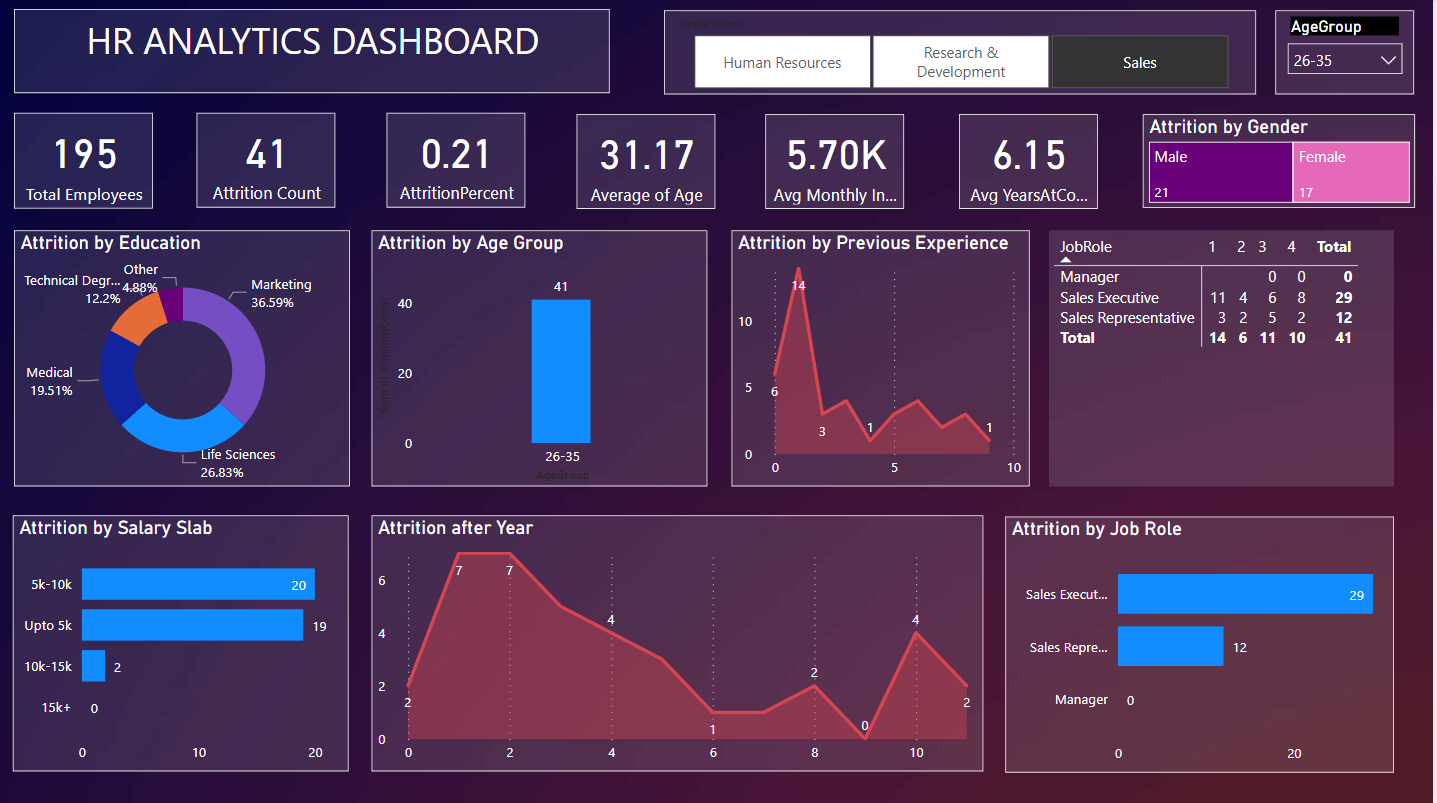

The page's visual inventory and layout, read from the dashboard file:
{"tool":"powerbi","page":{"name":"Page 1","canvas":[1280,720],"ordinal":0},"visuals":[{"type":"card","fields":{"Values":["CountNonNull(HR_Analytics.EmpID)"]},"box":[13.9,101.1,124.3,86],"z":0},{"type":"card","fields":{"Values":["Sum(HR_Analytics.AttritionCount)"]},"box":[176.6,101.1,124.3,84.8],"z":1000},{"type":"card","fields":{"Values":["HR_Analytics.AttritionPercent"]},"box":[346.3,101.1,124.3,84.8],"z":2000},{"type":"card","fields":{"Values":["Avg(HR_Analytics.Age)"]},"box":[515.7,102.7,123.9,84.8],"z":3000},{"type":"card","fields":{"Values":["Avg(HR_Analytics.MonthlyIncome)"]},"box":[684.3,102.7,123.9,84.8],"z":4000},{"type":"card","fields":{"Values":["Avg(HR_Analytics.YearsAtCompany)"]},"box":[857.5,102.3,124.3,84.8],"z":5000},{"type":"donutChart","title":"Attrition by Education","fields":{"Category":["HR_Analytics.EducationField"],"Y":["Sum(HR_Analytics.AttritionCount)"]},"box":[13.4,206.7,300,228.9],"z":6000},{"type":"columnChart","title":"Attrition by Age Group","fields":{"Y":["Sum(HR_Analytics.AttritionCount)"],"Category":["HR_Analytics.AgeGroup"]},"box":[332.3,206.8,299.8,228.9],"z":7000},{"type":"pivotTable","fields":{"Rows":["HR_Analytics.JobRole"],"Columns":["HR_Analytics.JobSatisfaction"],"Values":["Sum(HR_Analytics.AttritionCount)"]},"box":[937.7,206.8,307.9,228.9],"z":8000},{"type":"clusteredBarChart","title":"Attrition by Salary Slab","fields":{"Category":["HR_Analytics.SalarySlab"],"Y":["Sum(HR_Analytics.AttritionCount)"]},"box":[12.8,461.3,300,228.9],"z":9000},{"type":"barChart","title":"Attrition by Job Role","fields":{"Category":["HR_Analytics.JobRole"],"Y":["Sum(HR_Analytics.AttritionCount)"]},"box":[898.2,462.5,347.4,228.9],"z":10000},{"type":"areaChart","title":"Attrition after Year","fields":{"Y":["Sum(HR_Analytics.AttritionCount)"],"Category":["HR_Analytics.YearsAtCompany"]},"box":[332.3,461.3,546.1,228.9],"z":11000},{"type":"treemap","title":"Attrition by Gender","fields":{"Group":["HR_Analytics.Gender","HR_Analytics.YearsAtCompany"],"Values":["Sum(HR_Analytics.AttritionCount)"]},"box":[1021.4,102.3,242.8,83.7],"z":12000},{"type":"slicer","fields":{"Values":["HR_Analytics.Department"]},"box":[593.8,10.5,528.7,75.5],"z":13000},{"type":"slicer","fields":{"Values":["HR_Analytics.AgeGroup"]},"box":[1139.9,10.5,124.3,75.5],"z":14000},{"type":"textbox","box":[13.9,9.3,532.2,75.5],"z":15000},{"type":"areaChart","title":"Attrition  by Previous Experience","fields":{"Y":["Sum(HR_Analytics.AttritionCount)"],"Category":["HR_Analytics.NumCompaniesWorked"]},"box":[654.2,206.8,266.1,228.9],"z":15001}]}

Visuals, with their boxes in screenshot pixels (x1, y1, x2, y2), scaled from the page's 1280x720 canvas onto the 1437x803 screenshot:
card - CountNonNull(HR_Analytics.EmpID): [x1=16, y1=113, x2=155, y2=209]
card - Sum(HR_Analytics.AttritionCount): [x1=198, y1=113, x2=338, y2=207]
card - HR_Analytics.AttritionPercent: [x1=389, y1=113, x2=528, y2=207]
card - Avg(HR_Analytics.Age): [x1=579, y1=115, x2=718, y2=209]
card - Avg(HR_Analytics.MonthlyIncome): [x1=768, y1=115, x2=907, y2=209]
card - Avg(HR_Analytics.YearsAtCompany): [x1=963, y1=114, x2=1102, y2=209]
"Attrition by Education" donutChart: [x1=15, y1=231, x2=352, y2=486]
"Attrition by Age Group" columnChart: [x1=373, y1=231, x2=710, y2=486]
pivotTable - HR_Analytics.JobRole x HR_Analytics.JobSatisfaction: [x1=1053, y1=231, x2=1398, y2=486]
"Attrition by Salary Slab" clusteredBarChart: [x1=14, y1=514, x2=351, y2=770]
"Attrition by Job Role" barChart: [x1=1008, y1=516, x2=1398, y2=771]
"Attrition after Year" areaChart: [x1=373, y1=514, x2=986, y2=770]
"Attrition by Gender" treemap: [x1=1147, y1=114, x2=1419, y2=207]
slicer - HR_Analytics.Department: [x1=667, y1=12, x2=1260, y2=96]
slicer - HR_Analytics.AgeGroup: [x1=1280, y1=12, x2=1419, y2=96]
textbox: [x1=16, y1=10, x2=613, y2=95]
"Attrition  by Previous Experience" areaChart: [x1=734, y1=231, x2=1033, y2=486]
